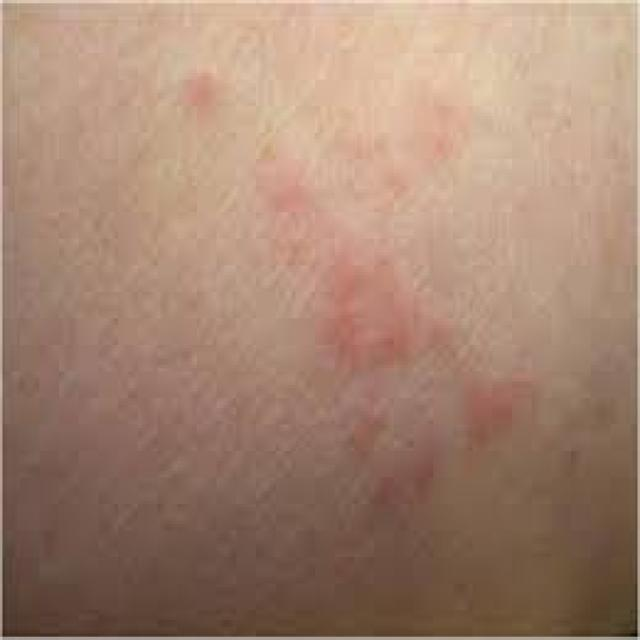kan emici bocekler: (317, 244, 425, 373), (461, 373, 536, 450)
